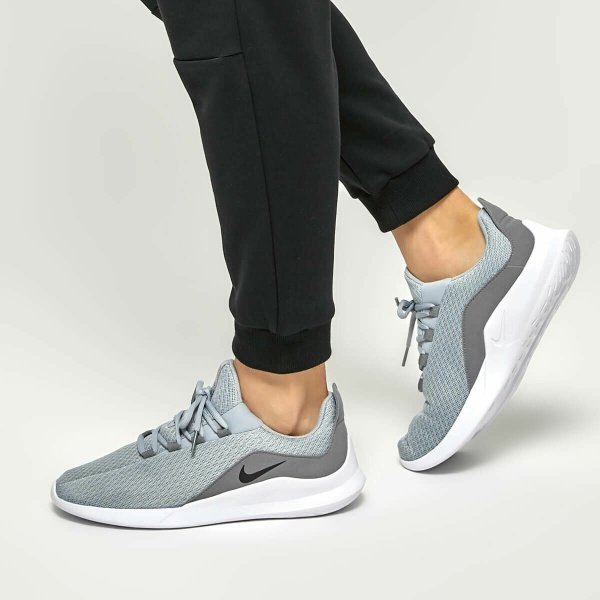nike: (236, 457, 291, 484)
